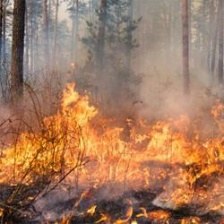fire: (1, 72, 224, 223)
